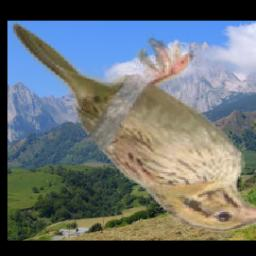Sparrow: (11, 21, 256, 232)
